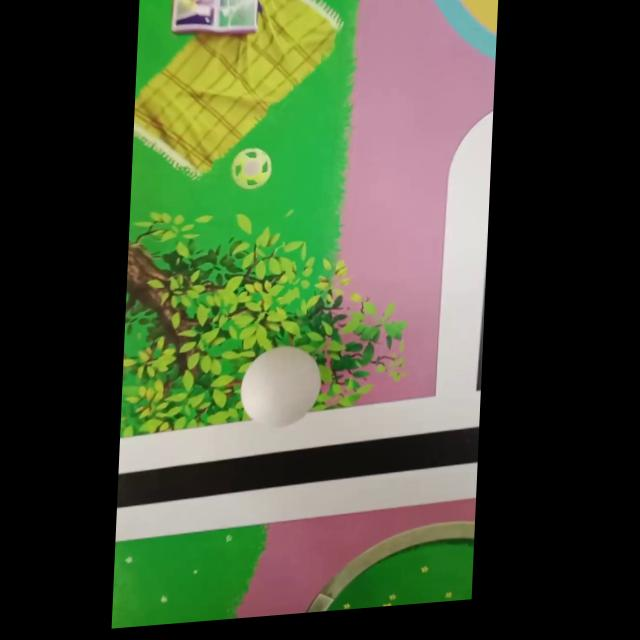white ball: (237, 341, 323, 430)
